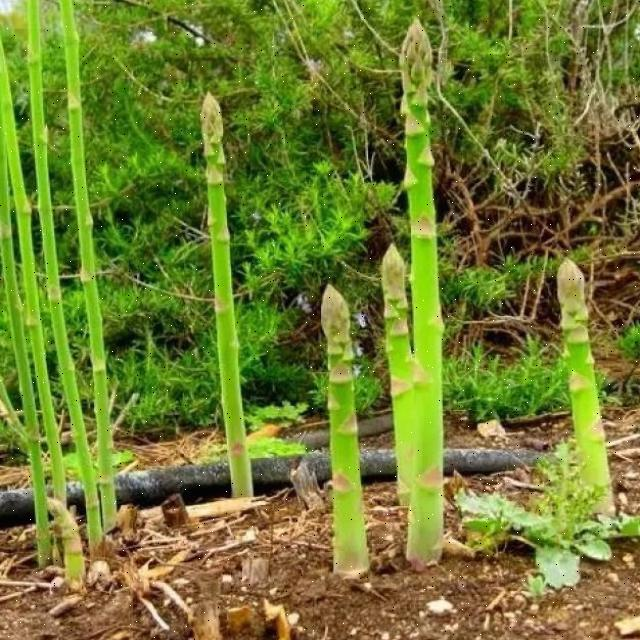aspargus: (200, 95, 250, 498), (323, 288, 370, 577)
